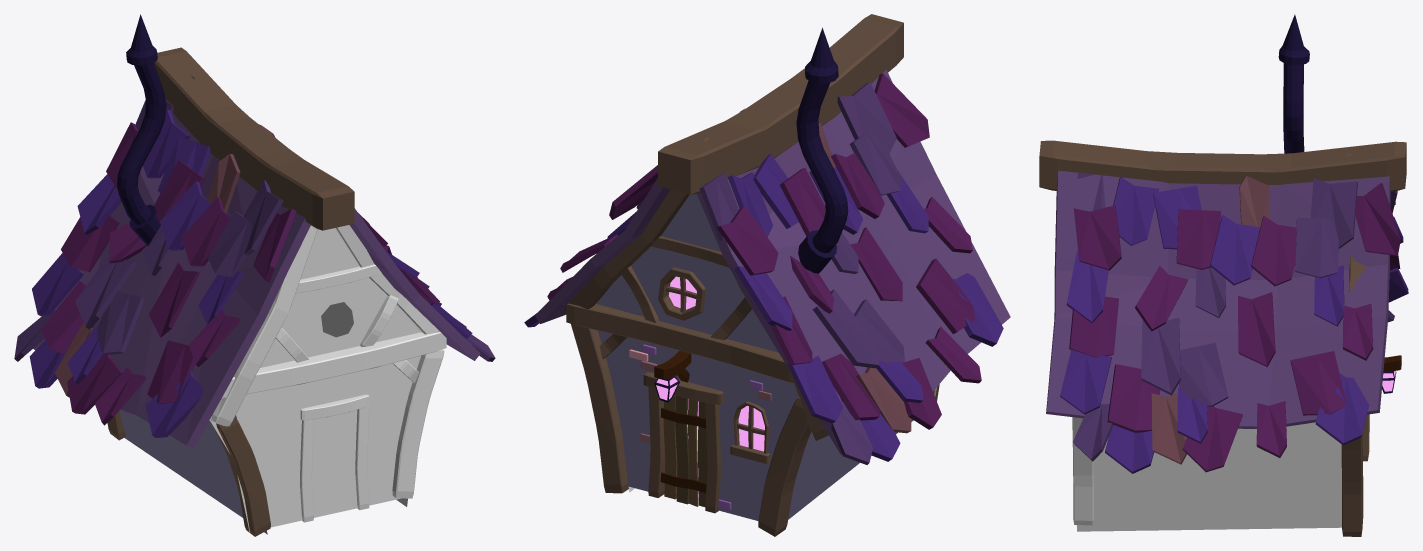
3 views of the same model, side by side, from view 1: azimuth 30°, elevation 25°; view 2: azimuth 150°, elevation 25°; view 3: azimuth 270°, elevation 25° (orthographic). The views are drawn at different scales.
Visible parts, largest first — view 1: Cube.047_Cube.090; view 2: Cube.047_Cube.090; view 3: Cube.047_Cube.090.
Part boxes in pixels (x1=…): Cube.047_Cube.090: x1=14, y1=14, x2=495, y2=536; Cube.047_Cube.090: x1=524, y1=14, x2=1010, y2=536; Cube.047_Cube.090: x1=1039, y1=14, x2=1408, y2=536.
Bounding box in the file's own units: 625 × 752 × 568.
